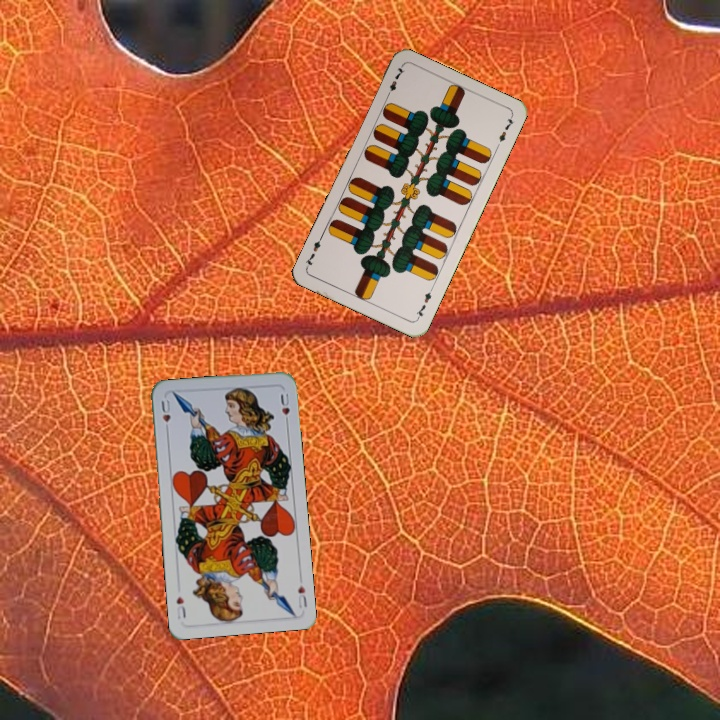E7: (412, 284, 436, 322), (383, 62, 407, 100)
HU: (157, 396, 173, 435), (294, 581, 310, 610)
